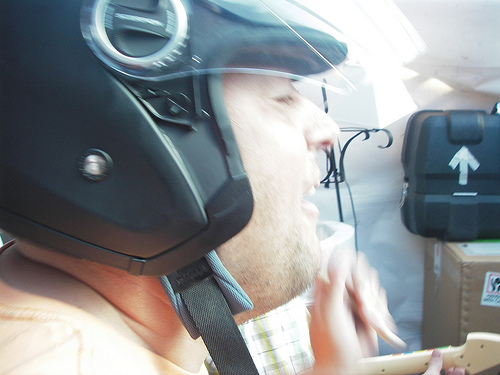helmet: (1, 4, 335, 269)
